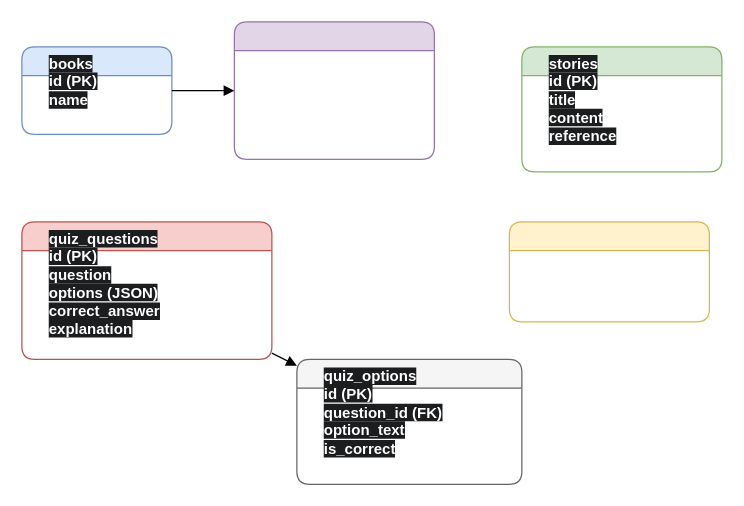
The diagram is 744 pixels wide and 506 high, and some of its shapes have lost their labels. Each missing label, with the box of its shape:
concepts id (PK) name description: (508, 221, 709, 322)
verses id (PK) book_id (FK) chapter verse text: (233, 21, 434, 159)
